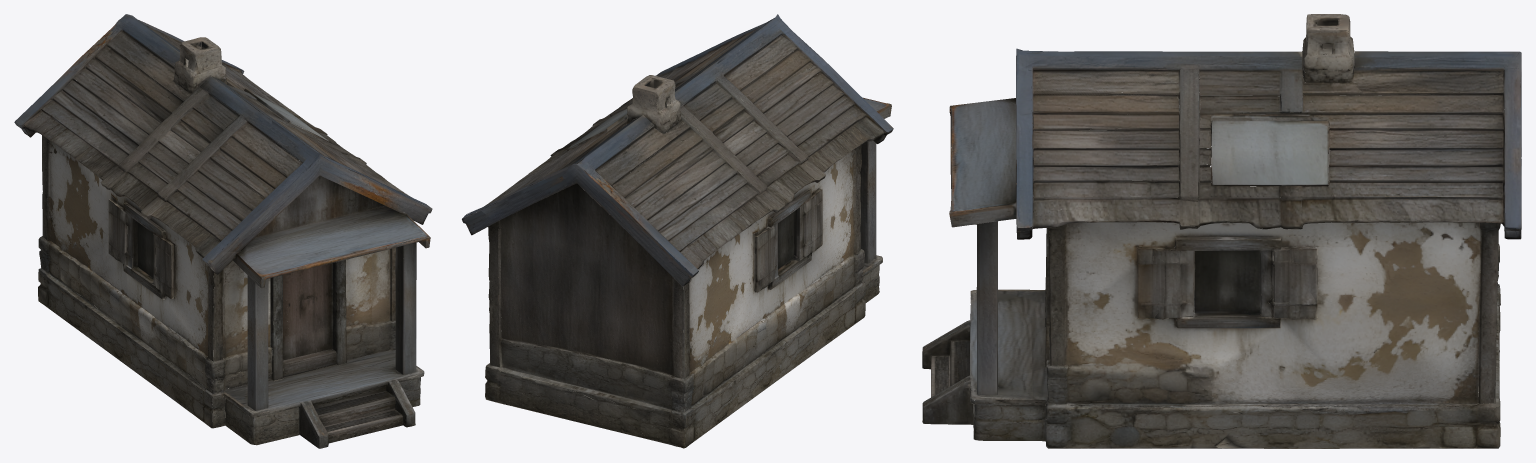
The model's file is house_shack_01.glb.
The picture shows the model from 3 angles, left to right: view 1: azimuth 30°, elevation 25°; view 2: azimuth 150°, elevation 25°; view 3: azimuth 270°, elevation 25°; orthographic projection. The views are drawn at different scales.
Visible parts, largest first — view 1: node_0; view 2: node_0; view 3: node_0.
Part boxes in pixels (x1,y1,x2,y2): node_0: (14,14,432,448); node_0: (462,14,893,448); node_0: (922,14,1521,448).
Bounding box in the file's own units: 3.77 × 4.5 × 6.68.
Materials: 1 (1 with a texture image).
